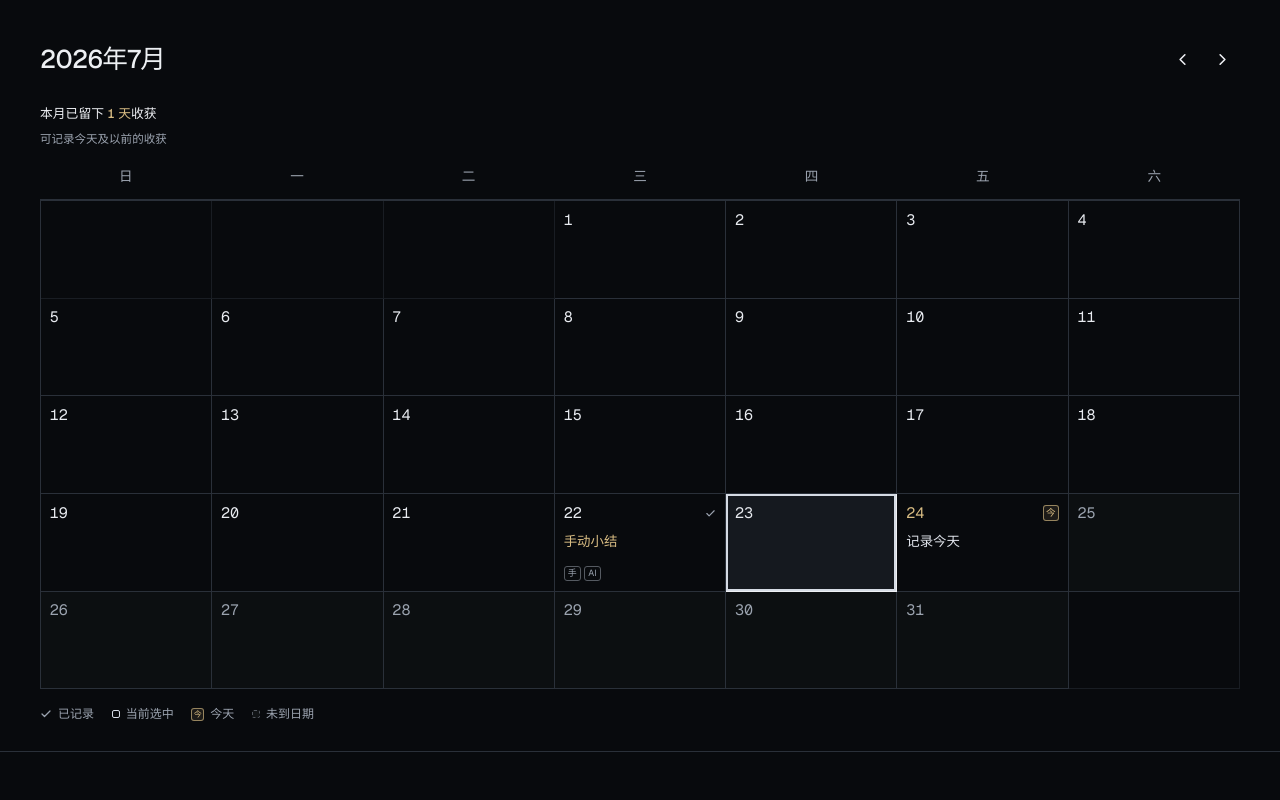
Test: MonthCalendar › shows both same-day mode titles in one calendar day
Focus the button with aria-label "7月22日" at coordinates (640, 543), box [555,494,726,592]
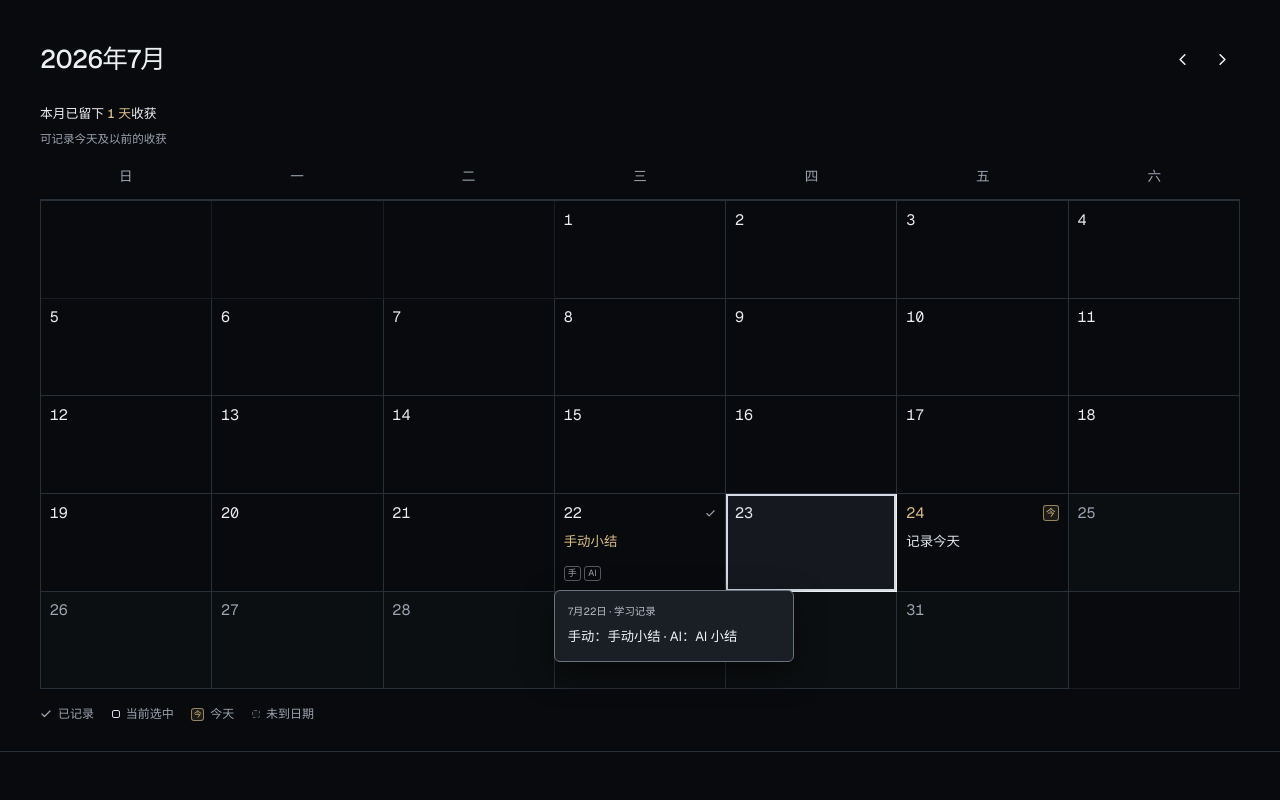
Result: the tooltip shows "手动：手动小结 · AI：AI 小结" at [568,628,737,645]
